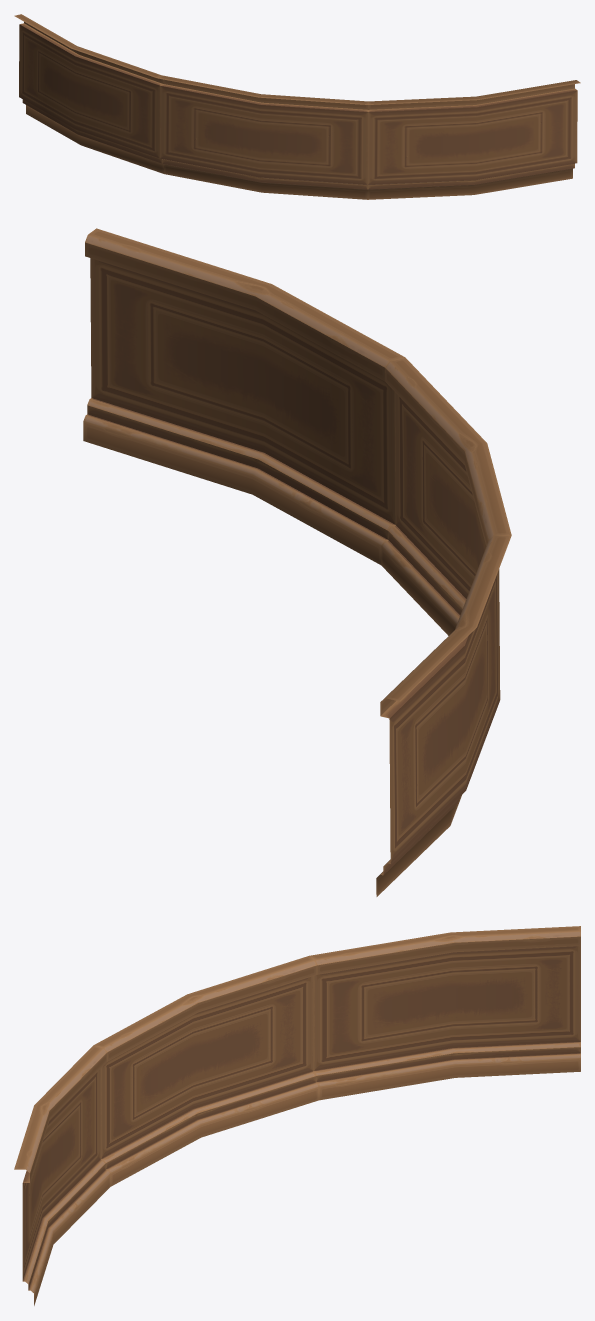
The model's file is ARC0510080.fbx.
3 views of the same model, one above another, from view 1: azimuth 30°, elevation 25°; view 2: azimuth 150°, elevation 25°; view 3: azimuth 270°, elevation 25° (orthographic). The views are drawn at different scales.
Parts seen in each view (by area): view 1: smARC0510080; view 2: smARC0510080; view 3: smARC0510080.
Part boxes in pixels (x1,y1,x2,y2): smARC0510080: (14, 14, 580, 199); smARC0510080: (83, 228, 511, 896); smARC0510080: (14, 926, 580, 1305).
Bounding box in the file's own units: 280 × 77.22 × 280.
Materials: 1 (1 with a texture image).
